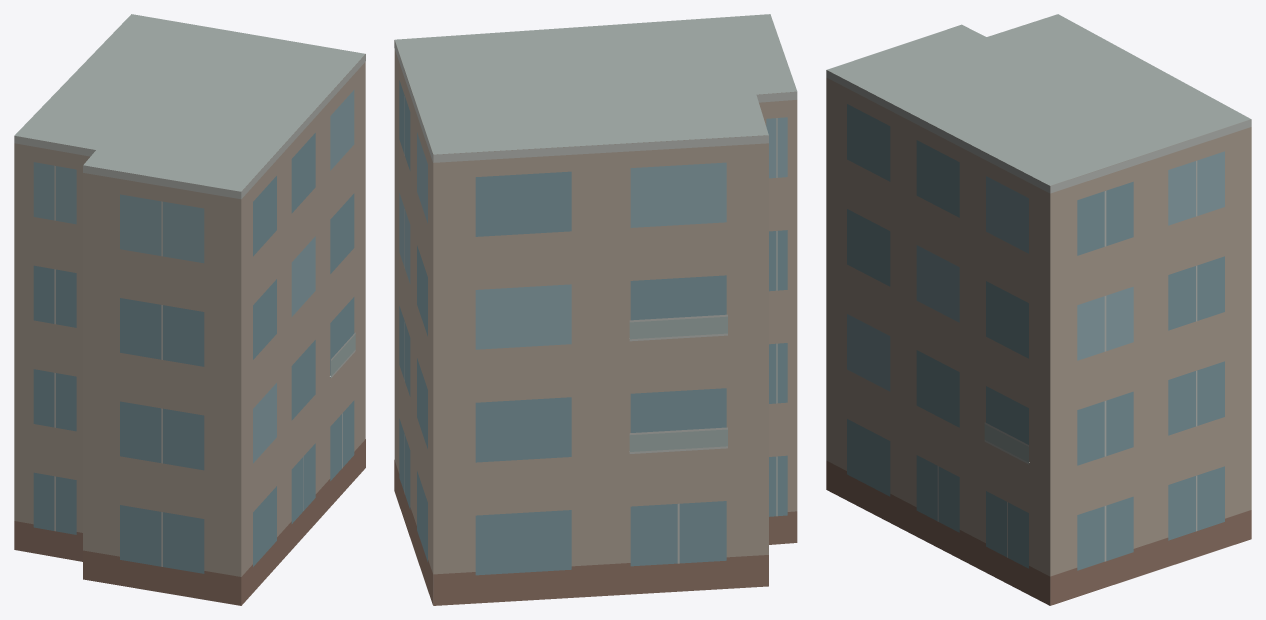
Rendered from survey-upis-32971035.glb.
3 views of the same model, side by side, from view 1: azimuth 30°, elevation 25°; view 2: azimuth 150°, elevation 25°; view 3: azimuth 270°, elevation 25° (orthographic). The views are drawn at different scales.
Parts seen in each view (by area): view 1: survey-upis-32971035.tmp; view 2: survey-upis-32971035.tmp; view 3: survey-upis-32971035.tmp.
Boxes of the visible parts, x1,y1,x2,y2 form: survey-upis-32971035.tmp: [14, 14, 365, 605]; survey-upis-32971035.tmp: [394, 14, 797, 605]; survey-upis-32971035.tmp: [826, 14, 1251, 605].
Size of the model in its own units: 11.78 by 13.4 by 12.3.
